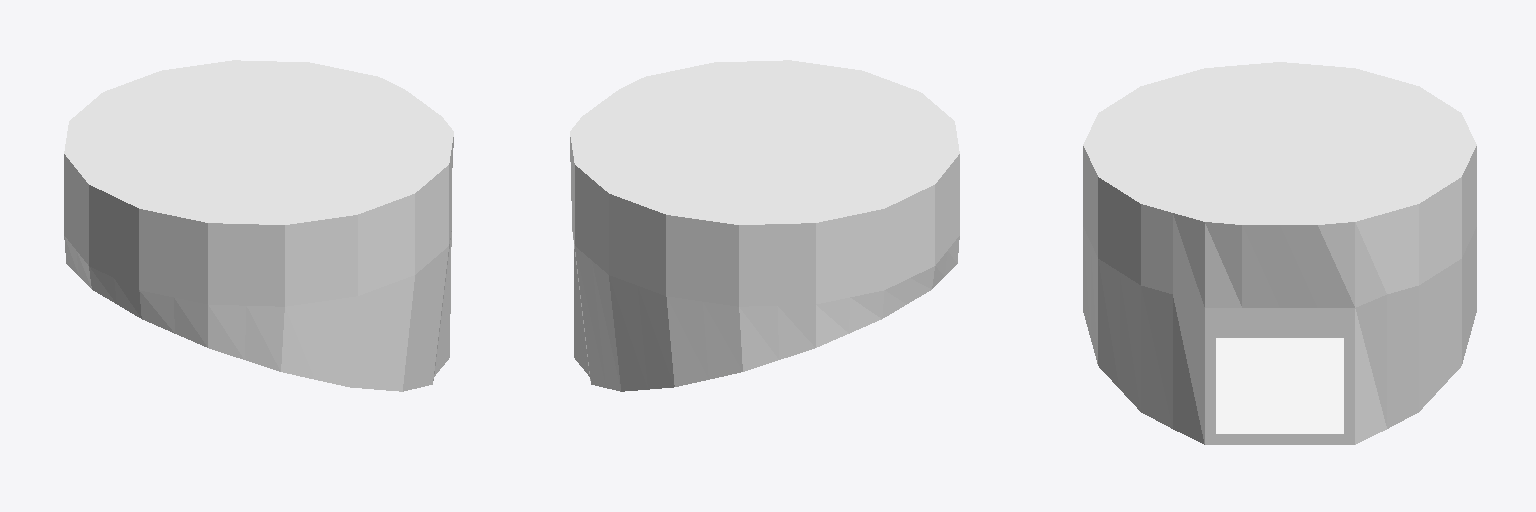
The model's file is gutter_bottom.obj.
3 views of the same model, side by side, from view 1: azimuth 30°, elevation 25°; view 2: azimuth 150°, elevation 25°; view 3: azimuth 270°, elevation 25° (orthographic).
Visible parts, largest first — view 1: Cylinder1_extract4; view 2: Cylinder1_extract4; view 3: Cylinder1_extract4.
Boxes of the visible parts, <box> form: Cylinder1_extract4: <box>64,60,453,391</box>; Cylinder1_extract4: <box>570,60,959,391</box>; Cylinder1_extract4: <box>1083,62,1476,444</box>.
Bounding box in the file's own units: 0.6046 × 0.3884 × 0.616.